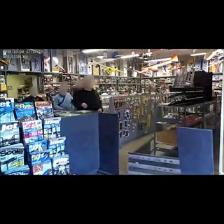person: (73, 75, 102, 111), (54, 82, 72, 110), (23, 88, 44, 102)
